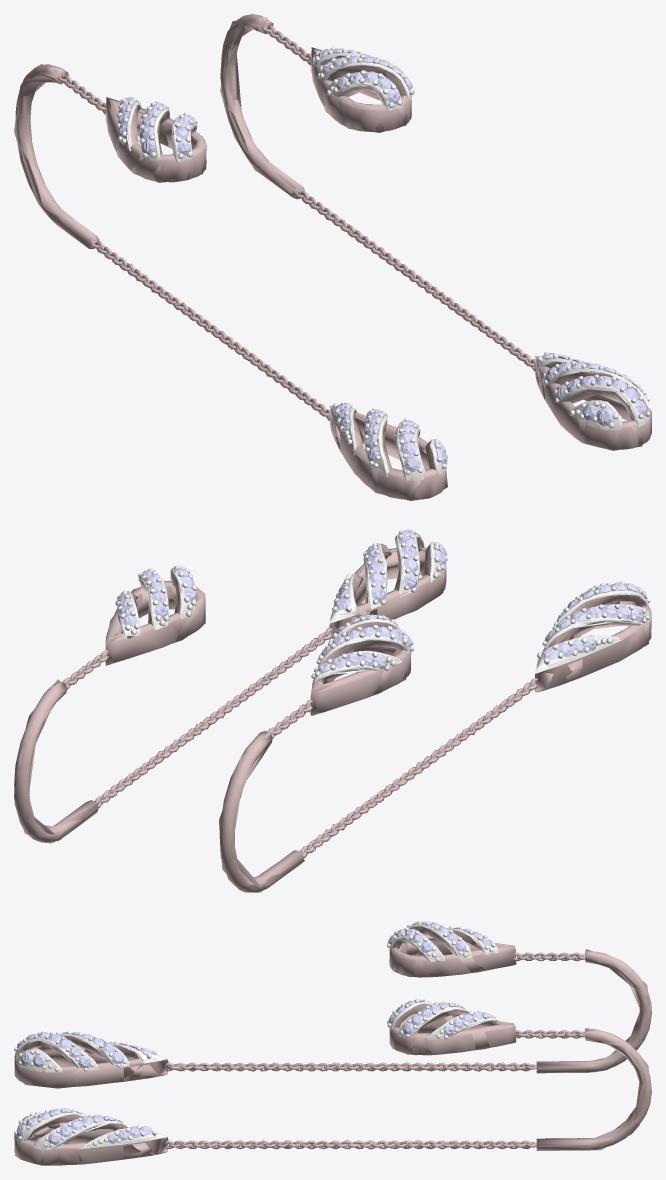
3 views of the same model, one above another, from view 1: azimuth 30°, elevation 25°; view 2: azimuth 150°, elevation 25°; view 3: azimuth 270°, elevation 25° (orthographic). The views are drawn at different scales.
Parts seen in each view (by area): view 1: highPolyMesh, lowPolyMesh; view 2: highPolyMesh, lowPolyMesh; view 3: highPolyMesh, lowPolyMesh.
Boxes of the visible parts, x1,y1,x2,y2 form: highPolyMesh: (15, 14, 651, 499); lowPolyMesh: (14, 17, 651, 500); highPolyMesh: (14, 530, 651, 892); lowPolyMesh: (14, 529, 651, 892); highPolyMesh: (14, 921, 651, 1165); lowPolyMesh: (14, 921, 651, 1165).
Bounding box in the file's own units: 0.0231 × 0.0154 × 0.0593.
